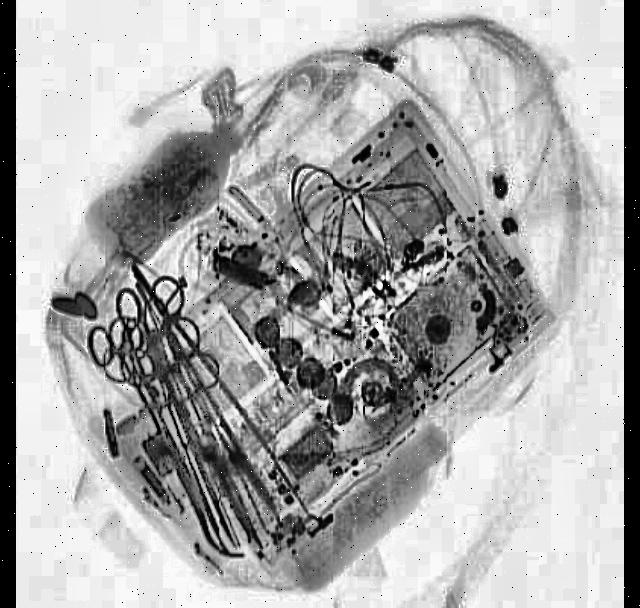Scissors: (76, 286, 198, 442)
